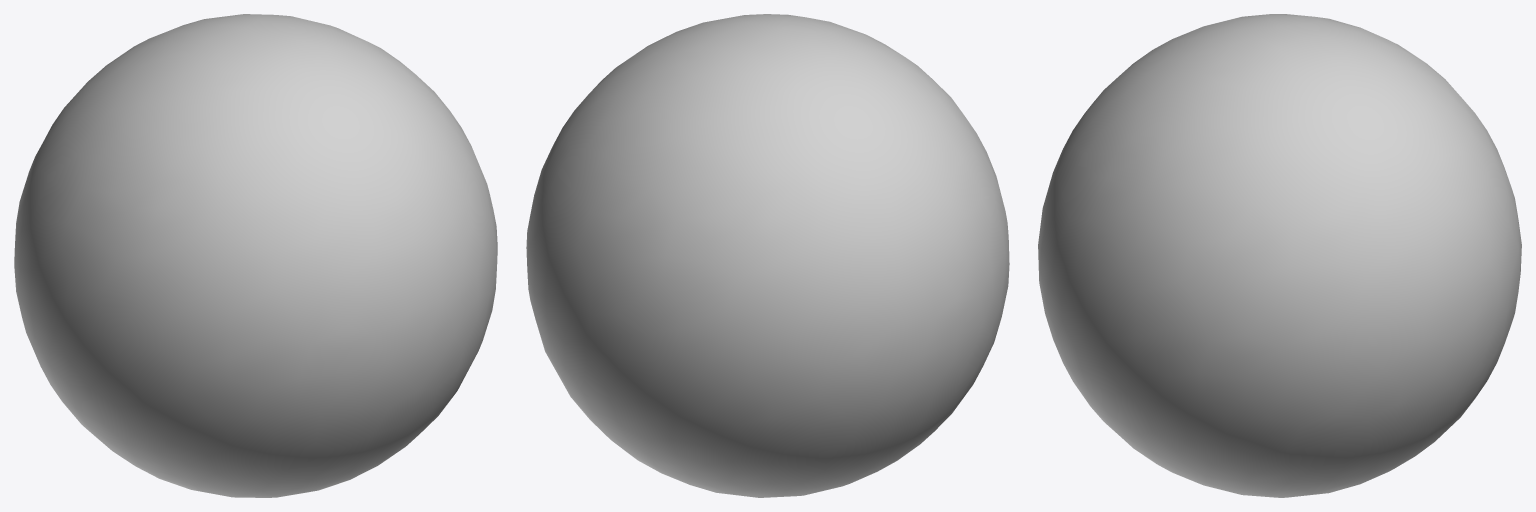
Rendered from clon_rick.glb.
3 renders of one model, left to right at view 1: azimuth 30°, elevation 25°; view 2: azimuth 150°, elevation 25°; view 3: azimuth 270°, elevation 25°, orthographic.
Visible parts, largest first — view 1: clon_rick; view 2: clon_rick; view 3: clon_rick.
Part boxes in pixels (box(x1,y1,x2,y2)): clon_rick: box(14, 14, 497, 497); clon_rick: box(526, 14, 1009, 497); clon_rick: box(1038, 14, 1521, 497).
Size of the model in its own units: 0.1 by 0.1 by 0.1.
1 material, 1 textured.
